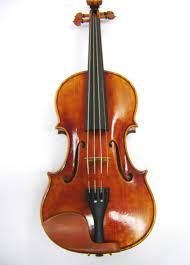Violin: (14, 1, 171, 256)
